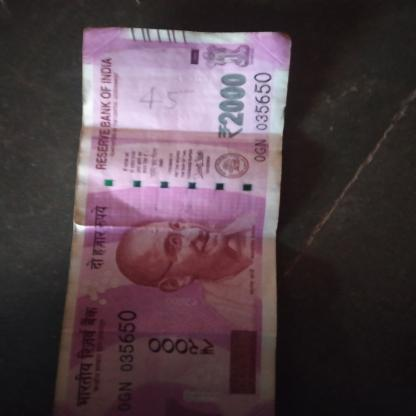New2000Front: (74, 33, 283, 415)
